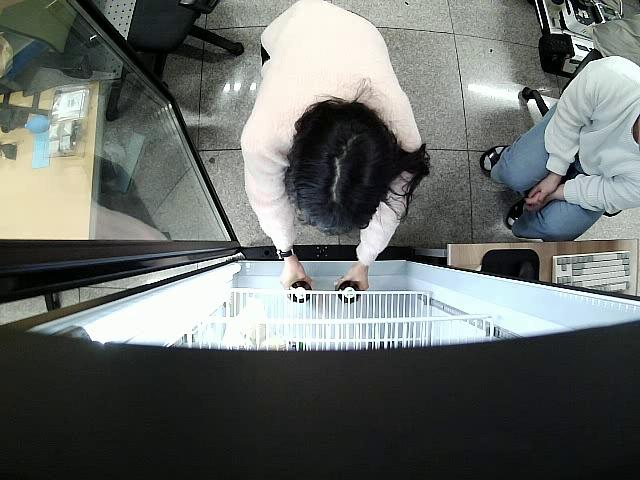00_hand: (334, 267, 370, 303), (279, 268, 313, 299)
19_17cha: (335, 279, 361, 305), (288, 281, 313, 305)
